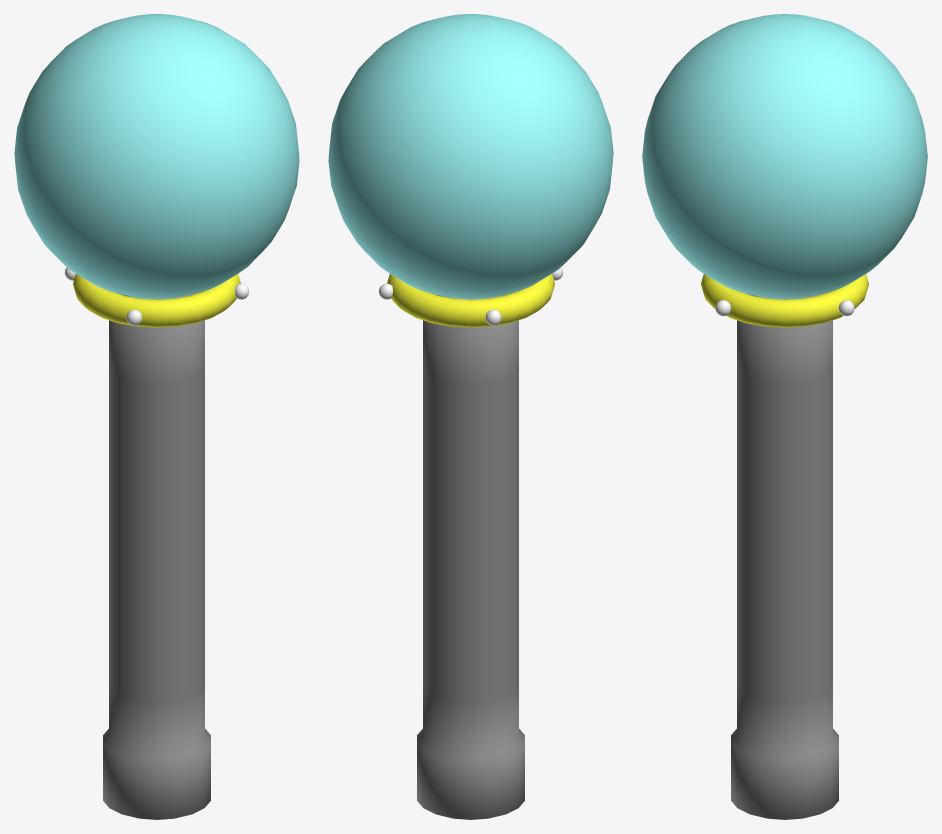
Rendered from Marble Penlight.FBX.
The picture shows the model from 3 angles, left to right: view 1: azimuth 30°, elevation 25°; view 2: azimuth 150°, elevation 25°; view 3: azimuth 270°, elevation 25°; orthographic projection.
Visible parts, largest first — view 1: Cylinder001, Object002; view 2: Cylinder001, Object002; view 3: Cylinder001, Object002.
Boxes of the visible parts, bbox=[...] form: Cylinder001: bbox=[14, 14, 299, 327]; Object002: bbox=[103, 293, 210, 819]; Cylinder001: bbox=[328, 14, 613, 327]; Object002: bbox=[417, 293, 524, 819]; Cylinder001: bbox=[642, 14, 927, 327]; Object002: bbox=[731, 294, 838, 819].
Size of the model in its own units: 12.56 by 37.46 by 12.56.
